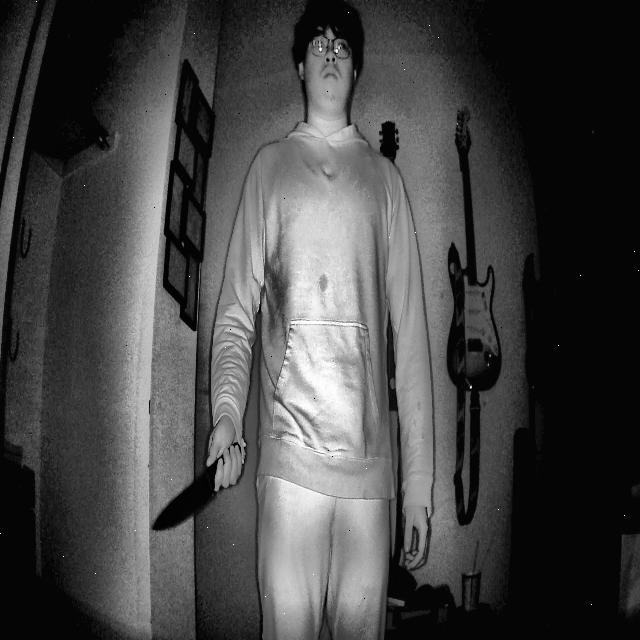knife: (147, 426, 262, 560)
